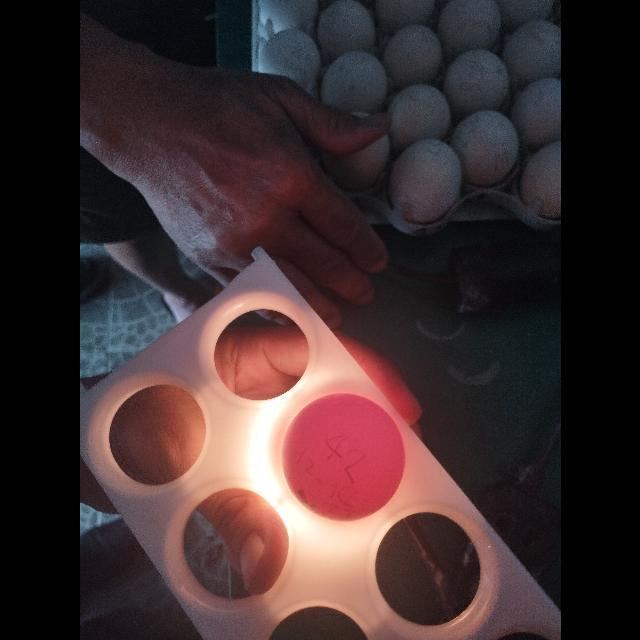Infertile: (280, 391, 406, 523)
